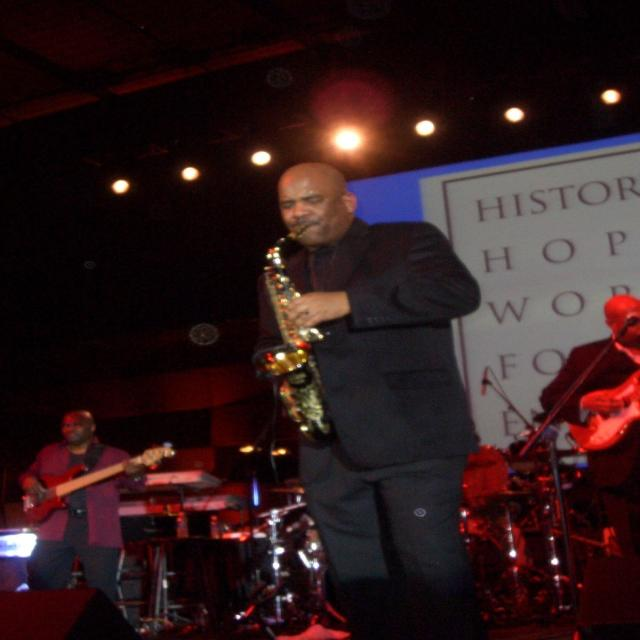drums: (267, 436, 576, 640)
saxophone: (242, 222, 345, 446)
